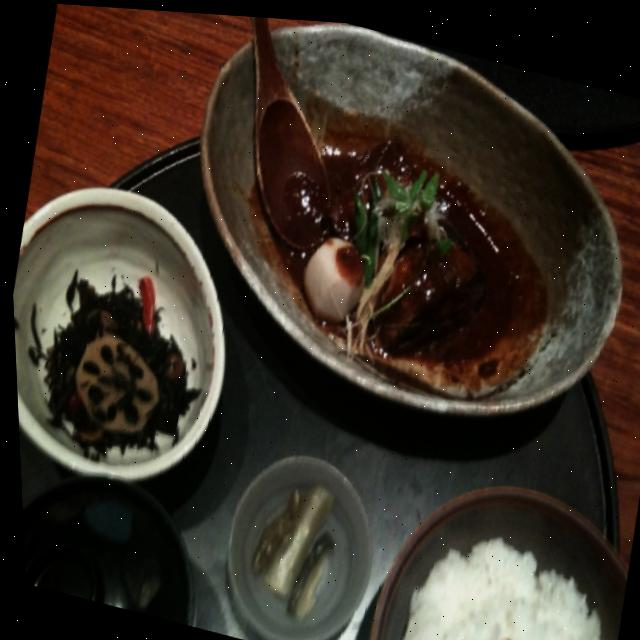米饭主食: (350, 443, 638, 640)
